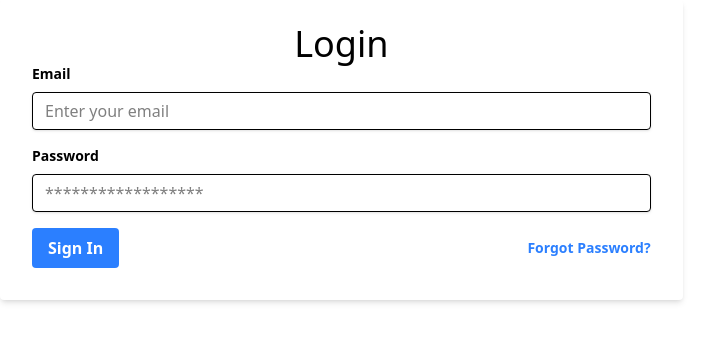
LoginForm › does not submit with null, null, {}
What coordinates should you click on to do the following:
click the button "Sign In"
I would click on:
 (76, 248)
Its box is [32,228,119,268].
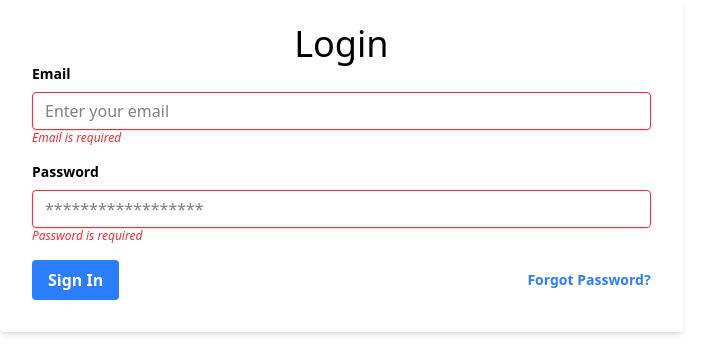
Expected: the text "Email is required" is shown, [32,129,121,146]
